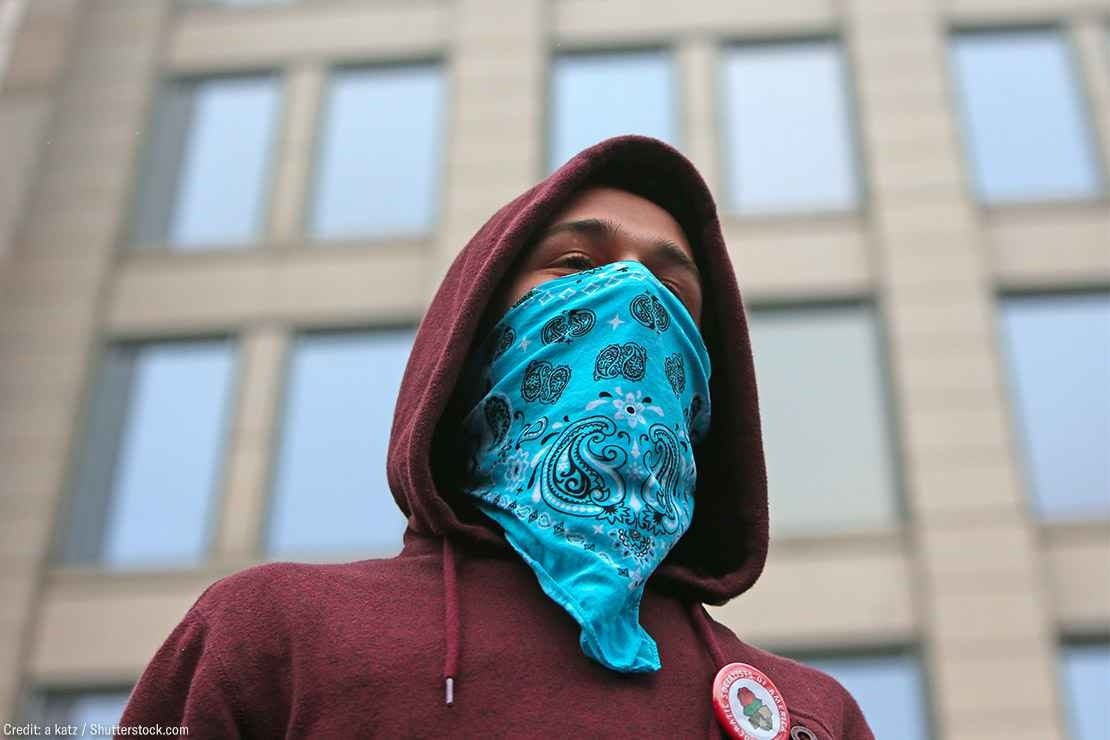face_with_mask: (459, 149, 719, 522)
